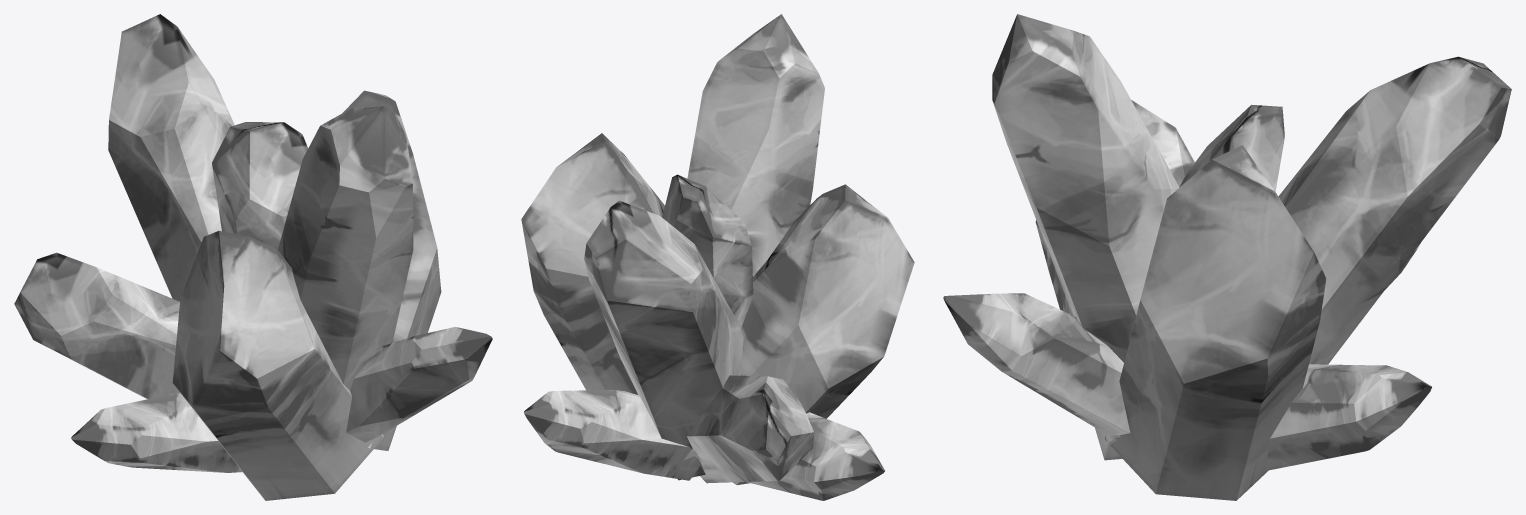
The model's file is Crystal10.fbx.
3 renders of one model, left to right at view 1: azimuth 30°, elevation 25°; view 2: azimuth 150°, elevation 25°; view 3: azimuth 270°, elevation 25°, orthographic. The views are drawn at different scales.
Visible parts, largest first — view 1: Crystal10; view 2: Crystal10; view 3: Crystal10.
Part boxes in pixels (x1,y1,x2,y2): Crystal10: (14,14,492,500); Crystal10: (521,14,914,500); Crystal10: (943,14,1511,500).
Bounding box in the file's own units: 2.17 × 2.49 × 2.74.
